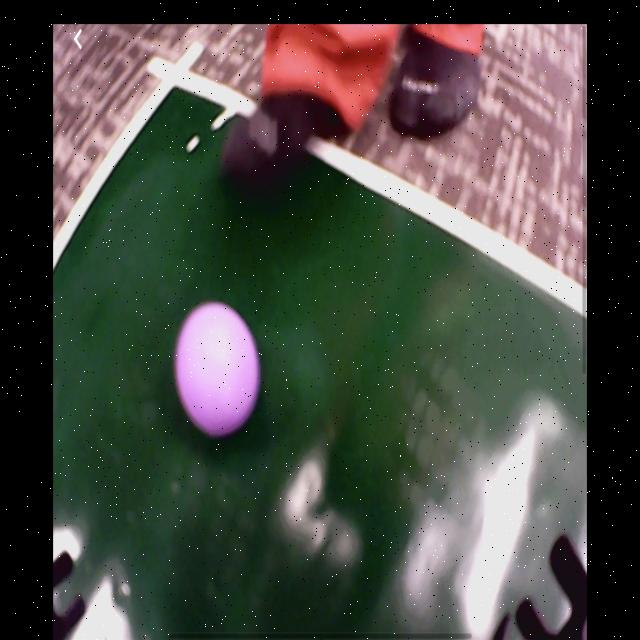ball: (174, 303, 258, 435)
